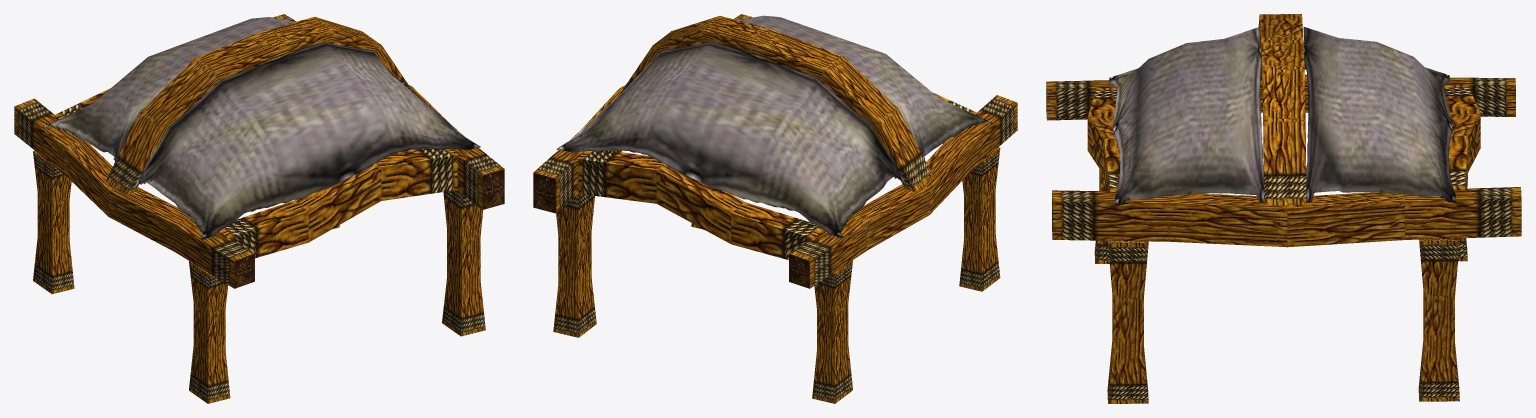
File: LVL_RIV_INST_SMALL_TENT-NEW.fbx
The picture shows the model from 3 angles, left to right: view 1: azimuth 30°, elevation 25°; view 2: azimuth 150°, elevation 25°; view 3: azimuth 270°, elevation 25°; orthographic projection. The views are drawn at different scales.
Visible parts, largest first — view 1: LVL_RIV_INST_SMALL_TENT-NEW; view 2: LVL_RIV_INST_SMALL_TENT-NEW; view 3: LVL_RIV_INST_SMALL_TENT-NEW.
Boxes of the visible parts, left/top/right/bottom form: LVL_RIV_INST_SMALL_TENT-NEW: left=14, top=14, right=504, bottom=403; LVL_RIV_INST_SMALL_TENT-NEW: left=533, top=14, right=1017, bottom=403; LVL_RIV_INST_SMALL_TENT-NEW: left=1046, top=14, right=1521, bottom=403.
Bounding box in the file's own units: 55191 × 46064 × 67511.
4 materials, 4 textured.
